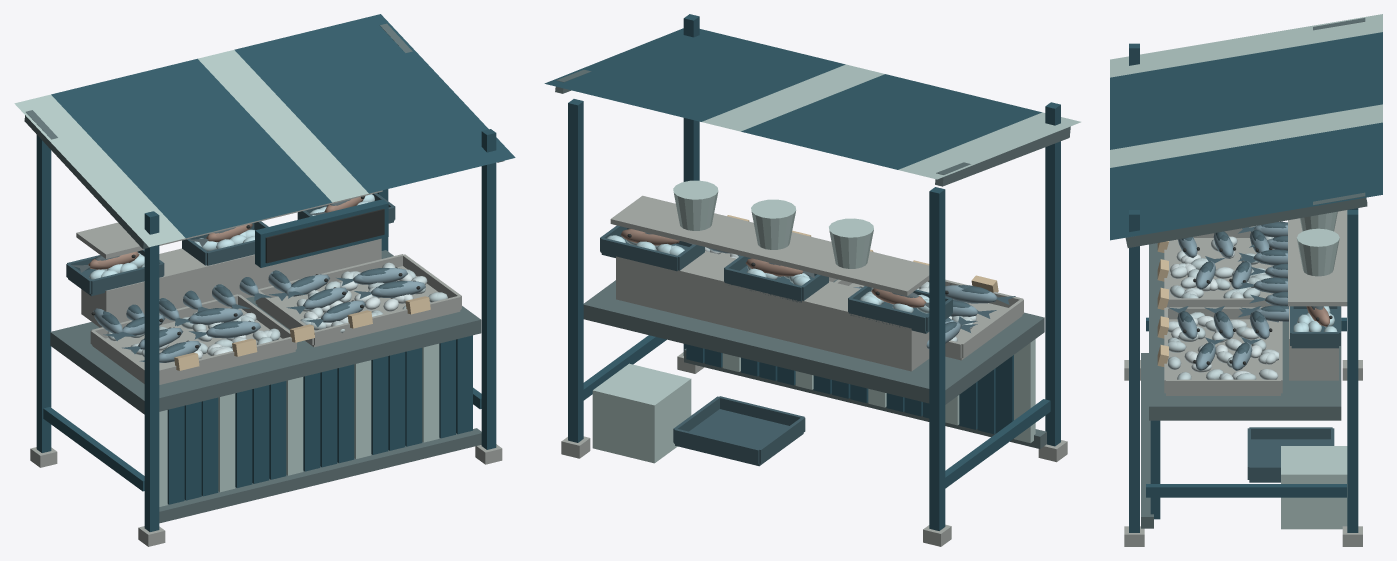
File: fish-near.glb
3 views of the same model, side by side, from view 1: azimuth 30°, elevation 25°; view 2: azimuth 150°, elevation 25°; view 3: azimuth 270°, elevation 25° (orthographic). The views are drawn at different scales.
Visible parts, largest first — view 1: Fish Market Stall; view 2: Fish Market Stall; view 3: Fish Market Stall.
Boxes of the visible parts, box(x1,y1,x2,y2) form: Fish Market Stall: box(14, 14, 515, 546); Fish Market Stall: box(544, 14, 1080, 546); Fish Market Stall: box(1110, 14, 1382, 546).
Size of the model in its own units: 2.98 by 2.73 by 1.9.
